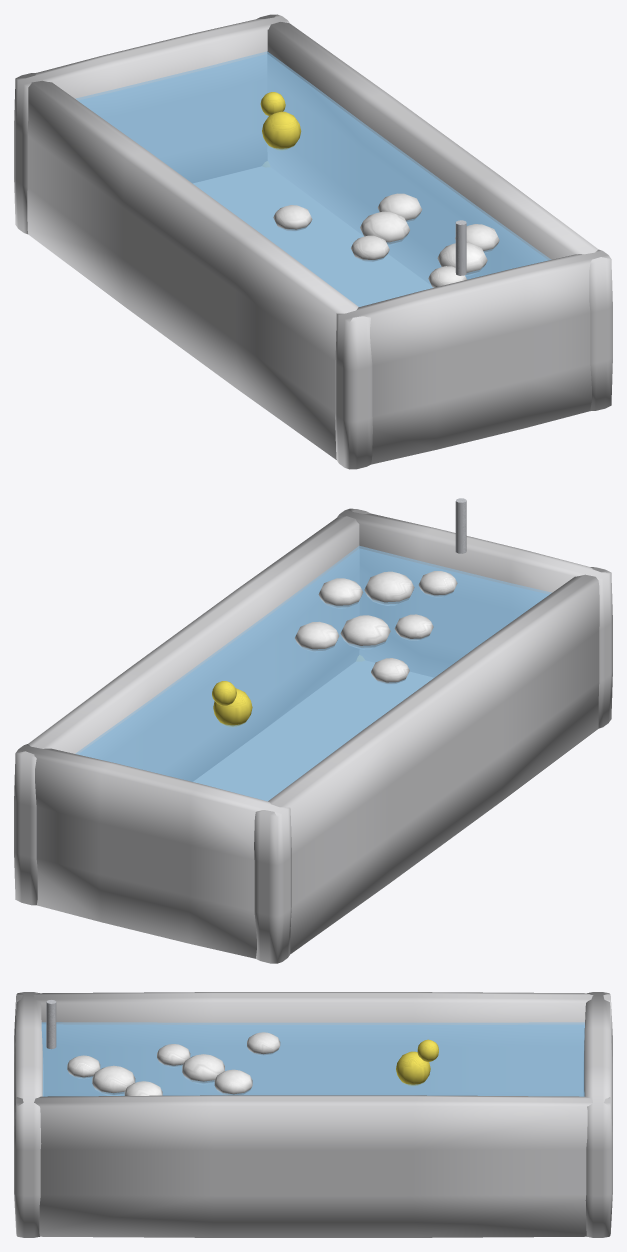
File: bathtub.glb
3 renders of one model, top to bottom at view 1: azimuth 30°, elevation 25°; view 2: azimuth 150°, elevation 25°; view 3: azimuth 270°, elevation 25°, orthographic. The views are drawn at different scales.
Visible parts, largest first — view 1: bathtub_body, Water; view 2: bathtub_body, Water; view 3: bathtub_body, Water.
Part boxes in pixels (bbox=[...]): bathtub_body: bbox=[14, 14, 612, 469]; Water: bbox=[75, 51, 551, 306]; bathtub_body: bbox=[14, 498, 612, 963]; Water: bbox=[75, 546, 551, 801]; bathtub_body: bbox=[14, 992, 612, 1237]; Water: bbox=[41, 1022, 584, 1096].
Bounding box in the file's own units: 1.1 × 0.82 × 2.4.
Materials: 6 (4 with a texture image).
